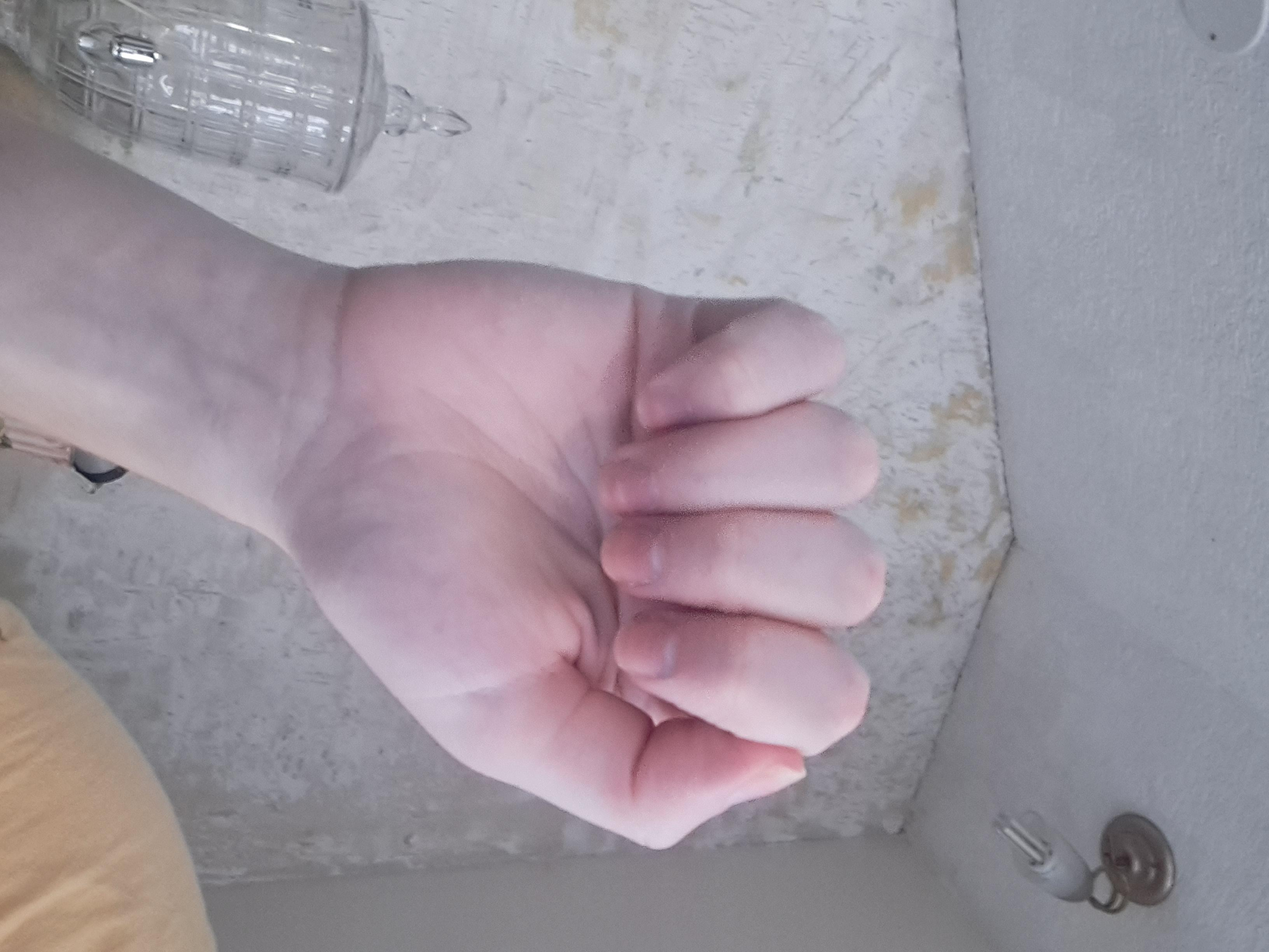A: (306, 289, 1151, 735)
